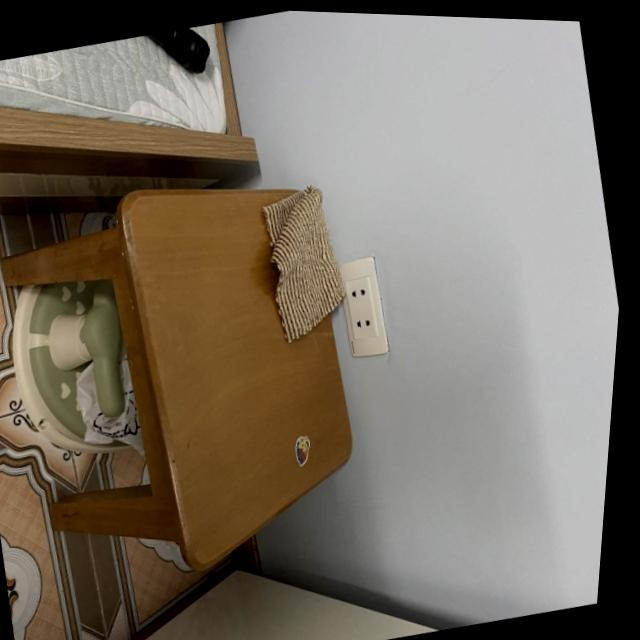outlet: (328, 252, 396, 360)
